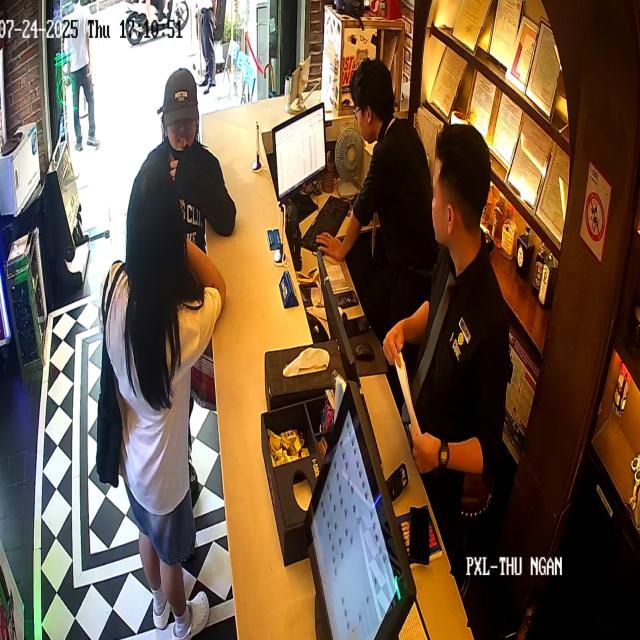khach: (106, 193, 231, 640), (143, 49, 229, 252)
nhan vien: (429, 212, 501, 478), (345, 52, 432, 266)
